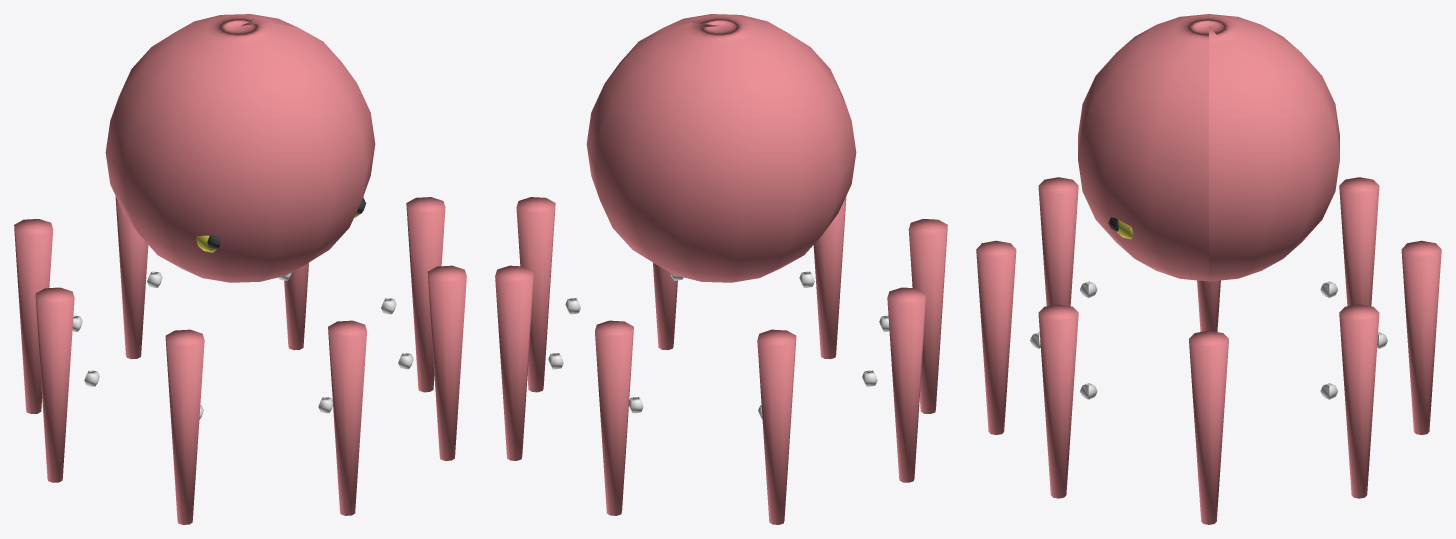
3 renders of one model, left to right at view 1: azimuth 30°, elevation 25°; view 2: azimuth 150°, elevation 25°; view 3: azimuth 270°, elevation 25°, orthographic.
Parts seen in each view (by area): view 1: Generated3DMesh; view 2: Generated3DMesh; view 3: Generated3DMesh.
Boxes of the visible parts, left/top/right/bottom form: Generated3DMesh: left=14, top=14, right=466, bottom=524; Generated3DMesh: left=495, top=14, right=947, bottom=524; Generated3DMesh: left=976, top=14, right=1441, bottom=524.
Bounding box in the file's own units: 2.08 × 2 × 2.08.
